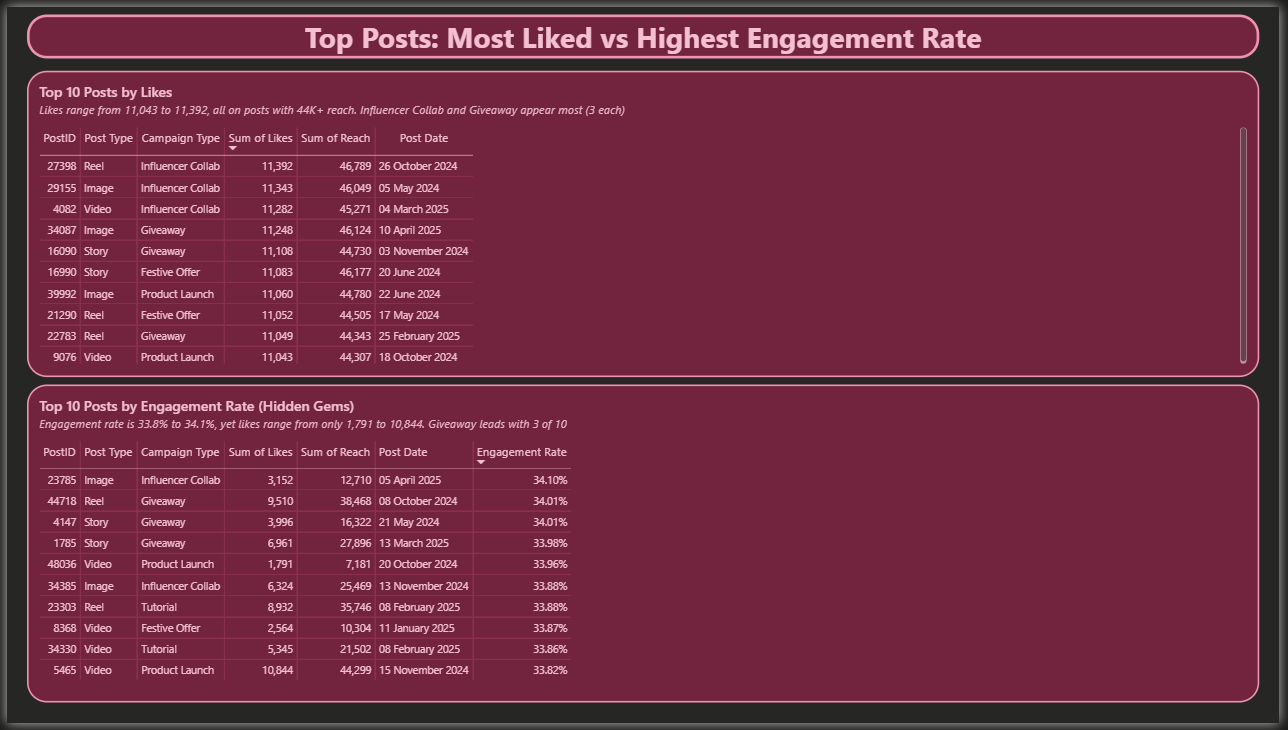

The page's visual inventory and layout, read from the dashboard file:
{"tool":"powerbi","page":{"name":"Top Posts","canvas":[1920,1080],"ordinal":1},"visuals":[{"type":"tableEx","title":"Top 10 Posts by Engagement Rate (Hidden Gems)","fields":{"Values":["Posts.PostID","Posts.Post Type","Posts.Campaign Type","Sum(Posts.Likes)","Sum(Posts.Reach)","Posts.Post Date.Variation.Date Hierarchy.Year","Posts.Engagement Rate"]},"box":[30,570,1860,480],"z":0},{"type":"tableEx","title":"Top 10 Posts by Likes","fields":{"Values":["Posts.PostID","Posts.Post Type","Posts.Campaign Type","Sum(Posts.Likes)","Sum(Posts.Reach)","Posts.Post Date.Variation.Date Hierarchy.Year"]},"box":[30,96,1860,462],"z":1000},{"type":"textbox","box":[30,12,1860,66],"z":2000}]}

Visuals, with their boxes in screenshot pixels (x1, y1, x2, y2), scaled from the page's 1920x1080 canvas onto the 1288x730 screenshot:
"Top 10 Posts by Engagement Rate (Hidden Gems)" tableEx: l=20, t=385, r=1268, b=710
"Top 10 Posts by Likes" tableEx: l=20, t=65, r=1268, b=377
textbox: l=20, t=8, r=1268, b=53
